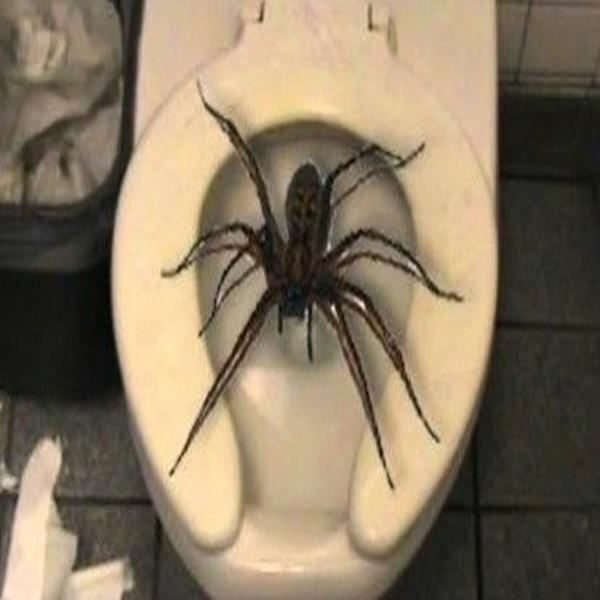Huntsman Spider: (175, 86, 463, 483)
